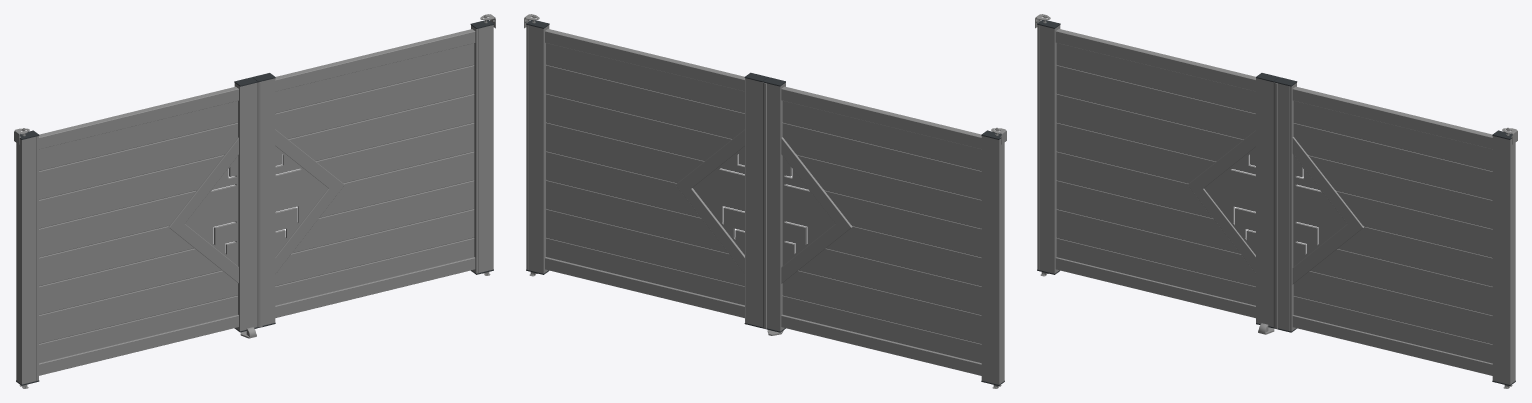
3 views of the same model, side by side, from view 1: azimuth 30°, elevation 25°; view 2: azimuth 150°, elevation 25°; view 3: azimuth 330°, elevation 25° (orthographic).
Visible parts, largest first — view 1: Shape107412932, Shape107412274, Shape107412643, Shape107412971, Shape107412644, Shape107412972, Shape107412931, chip, Shape107412271, chip001, Shape107412933, Shape107412930 (+3 smaller); view 2: Shape107412274, Shape107412932, Shape107412643, Shape107412971, Shape107412972, Shape107412644, Shape107412271, Shape107412931, chip, chip001, Shape107412930, Shape107412933 (+3 smaller); view 3: Shape107412274, Shape107412932, Shape107412971, Shape107412643, Shape107412644, Shape107412972, chip001, Shape107412931, Shape107412271, chip, Shape107412930, Shape107412933 (+3 smaller).
Part boxes in pixels (<box>): Shape107412932: <box>275,43,474,305</box>; Shape107412274: <box>39,101,237,363</box>; Shape107412643: <box>16,136,38,384</box>; Shape107412971: <box>471,25,493,273</box>; Shape107412644: <box>234,83,257,331</box>; Shape107412972: <box>259,78,275,325</box>; Shape107412931: <box>275,29,475,91</box>; chip: <box>185,155,238,266</box>; Shape107412271: <box>39,86,238,149</box>; chip001: <box>275,146,327,255</box>; Shape107412933: <box>275,257,475,317</box>; Shape107412930: <box>39,315,238,375</box>; Shape107412274: <box>782,101,981,362</box>; Shape107412932: <box>546,43,744,305</box>; Shape107412643: <box>981,136,1004,384</box>; Shape107412971: <box>526,24,549,273</box>; Shape107412972: <box>745,78,762,326</box>; Shape107412644: <box>764,82,785,331</box>; Shape107412271: <box>781,86,981,149</box>; Shape107412931: <box>545,29,744,91</box>; chip: <box>782,156,835,265</box>; chip001: <box>693,146,744,254</box>; Shape107412930: <box>781,314,981,375</box>; Shape107412933: <box>545,257,744,318</box>; Shape107412274: <box>1056,43,1255,305</box>; Shape107412932: <box>1293,101,1492,363</box>; Shape107412971: <box>1492,136,1515,384</box>; Shape107412643: <box>1037,24,1060,273</box>; Shape107412644: <box>1256,78,1273,326</box>; Shape107412972: <box>1275,82,1296,331</box>; chip001: <box>1293,155,1346,266</box>; Shape107412931: <box>1292,86,1492,149</box>; Shape107412271: <box>1055,29,1255,91</box>; chip: <box>1204,147,1255,254</box>; Shape107412930: <box>1055,257,1255,318</box>; Shape107412933: <box>1292,315,1492,375</box>.
Size of the model in its own units: 3259 by 1693 by 116.
Materials: 7 (2 with a texture image).
